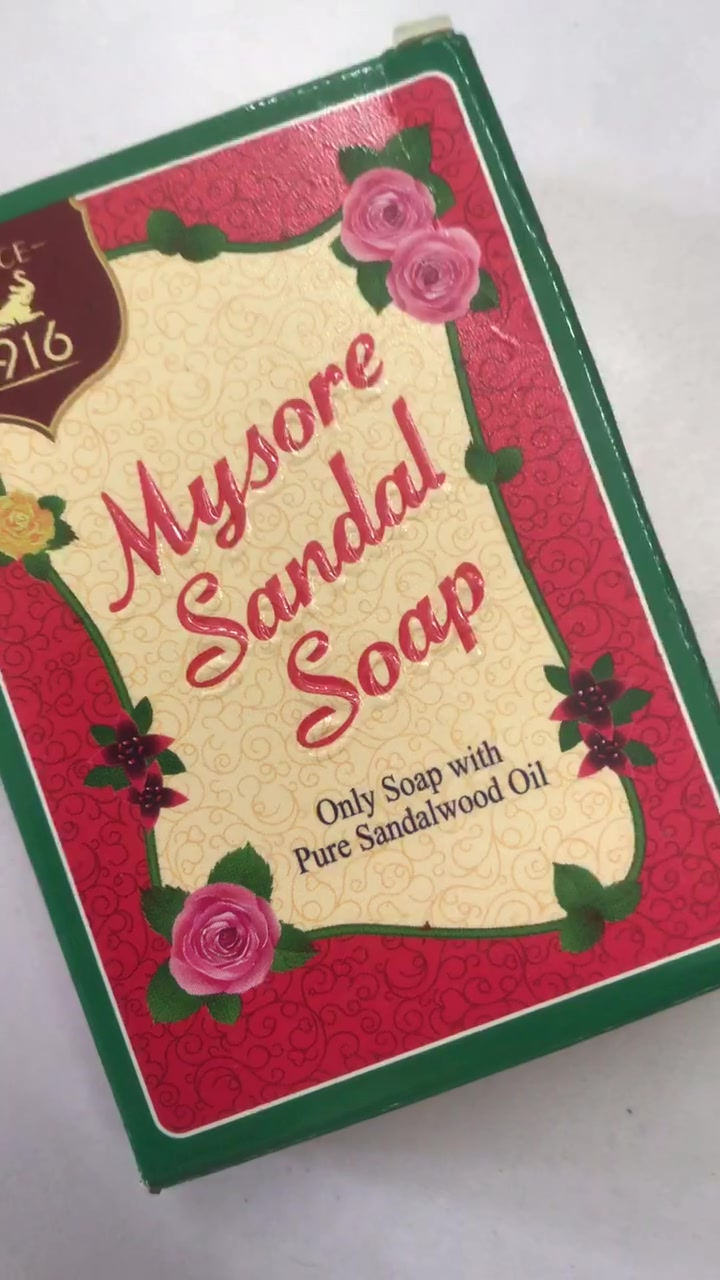mysore sandal soap: (6, 221, 720, 1070)
